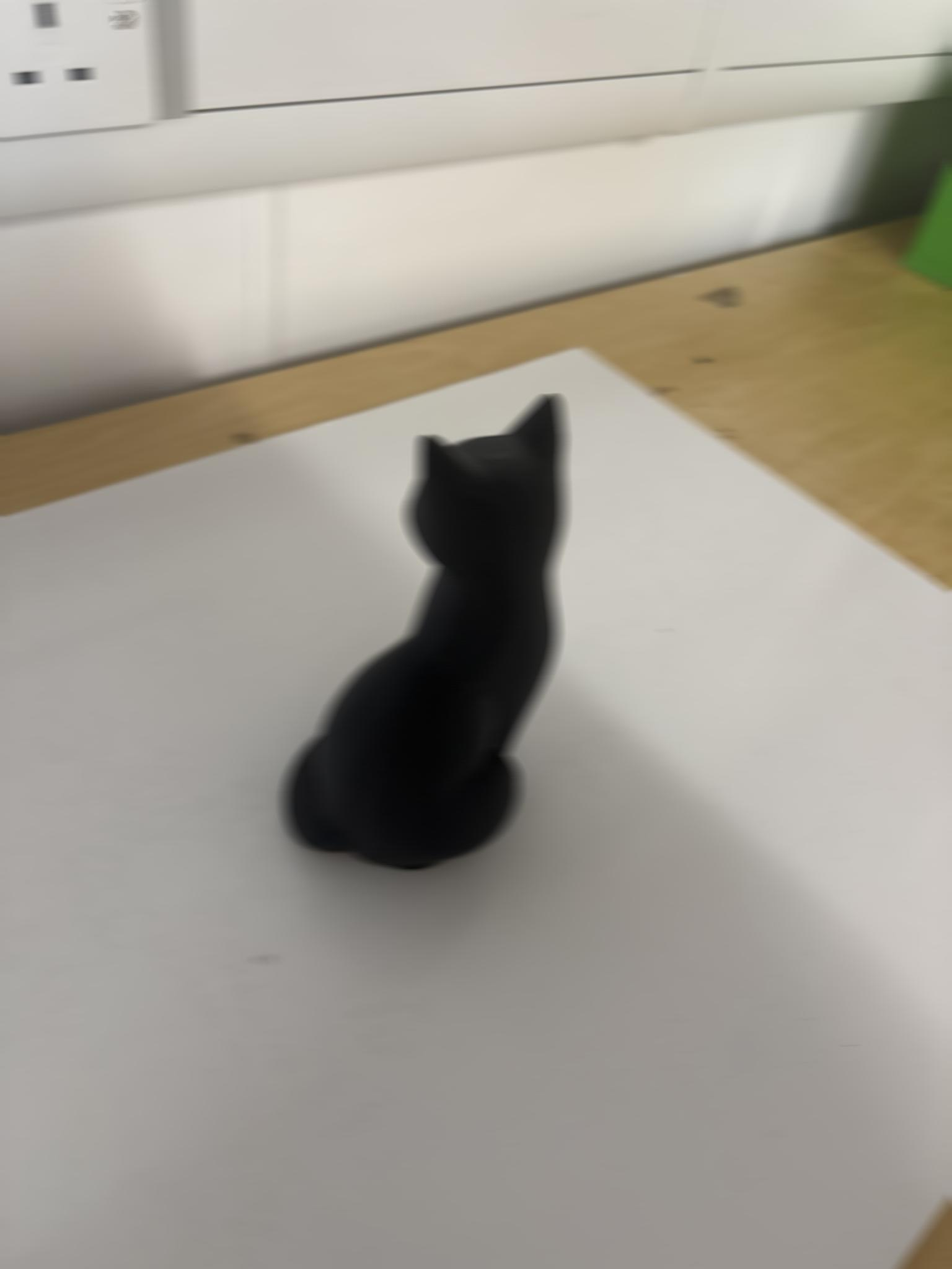cat: (283, 395, 564, 867)
